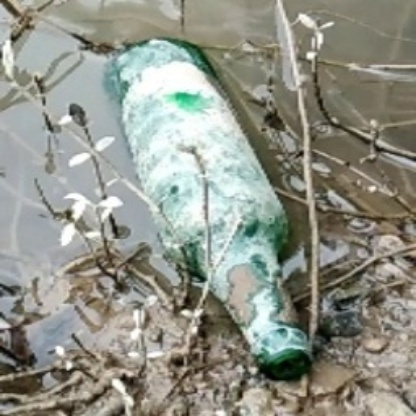bottle: (105, 36, 313, 379)
